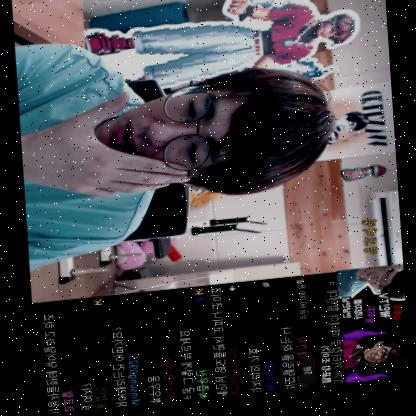streamer: (14, 20, 338, 272)
